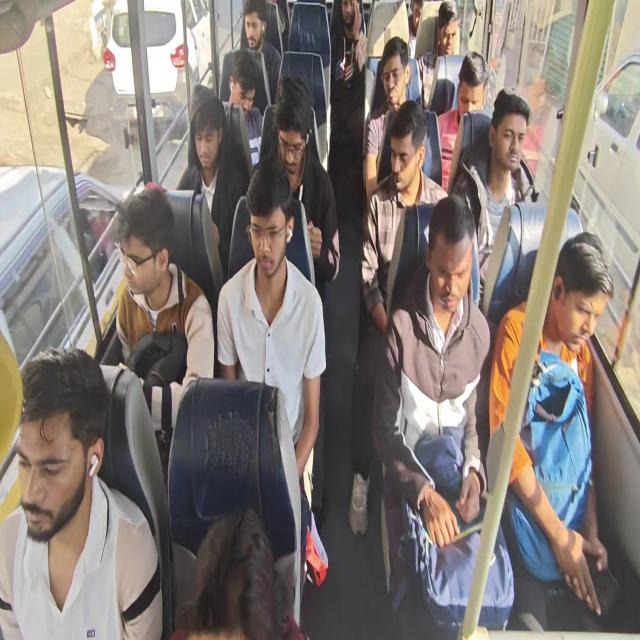person: (19, 354, 100, 528), (190, 529, 292, 640), (553, 244, 607, 354), (116, 197, 170, 297), (274, 86, 313, 176), (186, 91, 227, 175), (250, 188, 290, 271), (428, 232, 469, 312), (384, 119, 423, 200), (494, 101, 534, 172), (457, 48, 491, 126), (383, 54, 419, 115), (226, 62, 255, 115), (241, 2, 266, 52), (441, 7, 459, 59), (407, 0, 428, 41), (336, 0, 360, 31)
